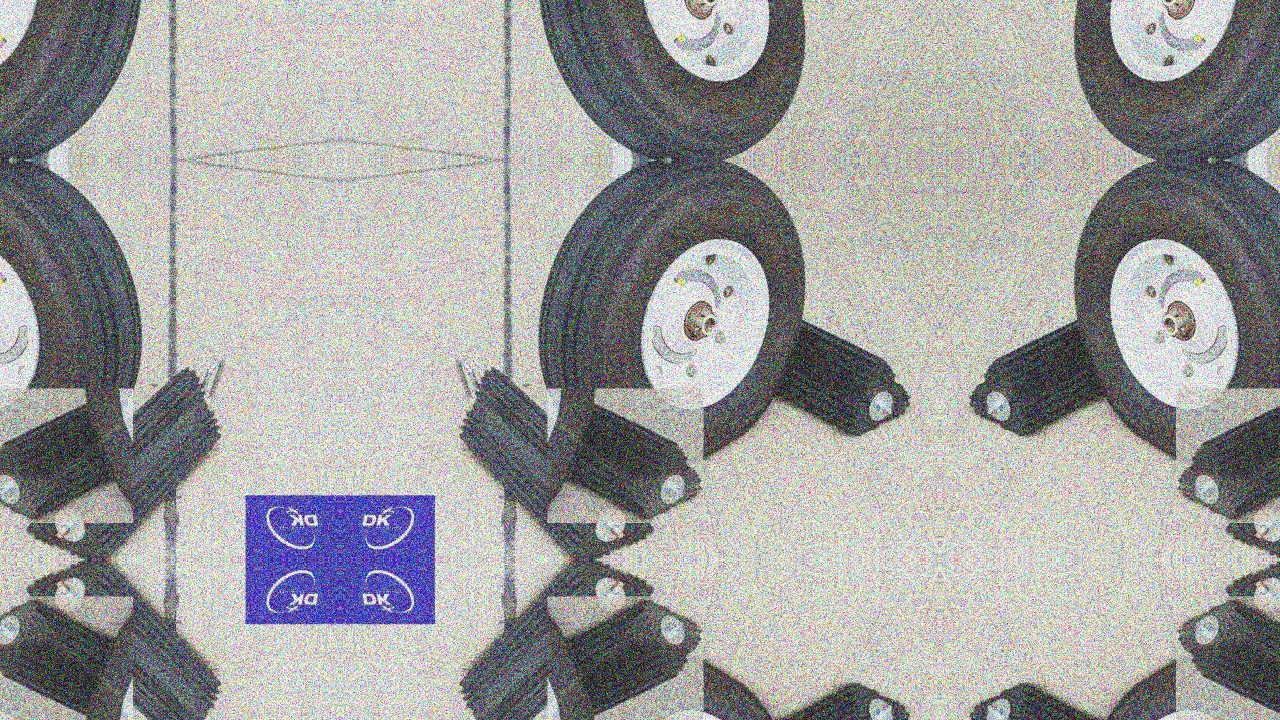chock: (24, 365, 246, 560), (434, 365, 656, 560), (24, 560, 246, 720), (434, 560, 656, 720), (756, 305, 912, 440), (548, 388, 704, 523), (968, 305, 1124, 440), (548, 597, 704, 720), (0, 388, 133, 523), (0, 597, 133, 720), (1176, 388, 1280, 523), (1176, 597, 1280, 720), (1224, 365, 1280, 560), (1224, 560, 1280, 720), (756, 680, 912, 720), (968, 680, 1124, 720), (756, 0, 912, 15), (968, 0, 1124, 15)
wheel: (542, 160, 805, 470), (1075, 160, 1280, 470), (0, 160, 138, 470), (542, 0, 805, 160), (1075, 0, 1280, 160), (0, 0, 138, 160), (542, 650, 805, 720), (1075, 650, 1280, 720), (0, 650, 138, 720)
